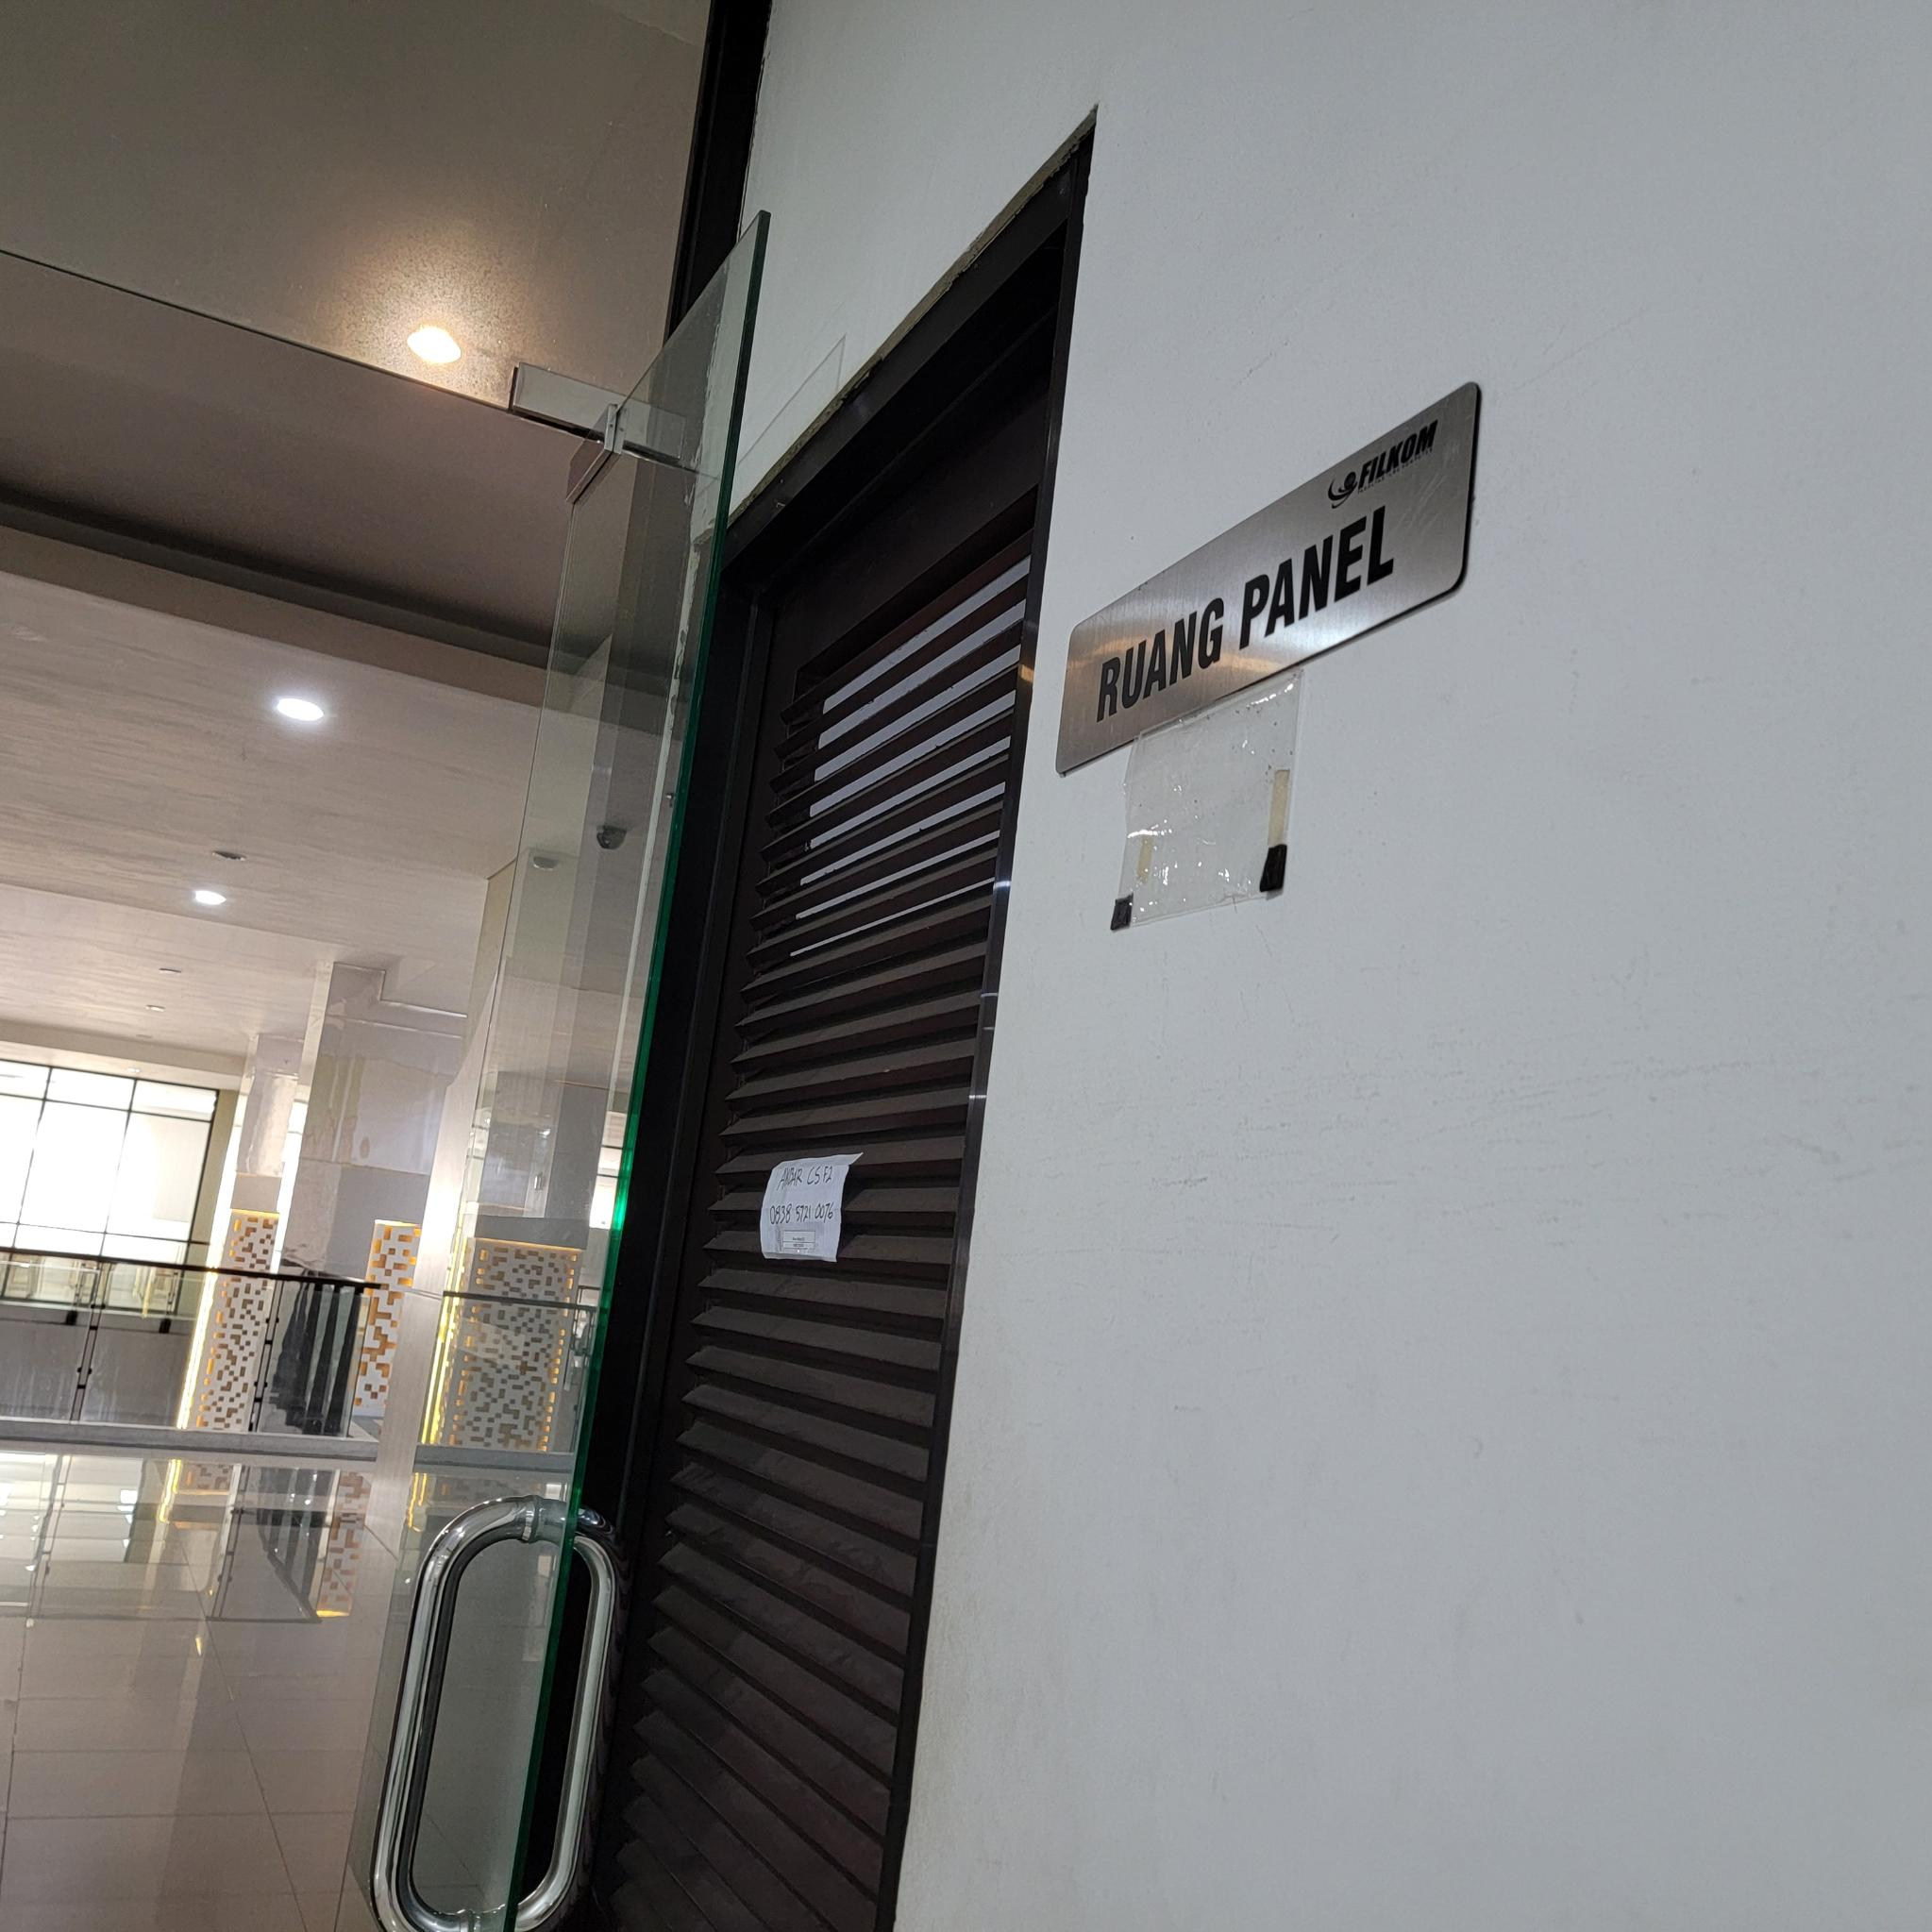plate: (1054, 379, 1484, 778)
